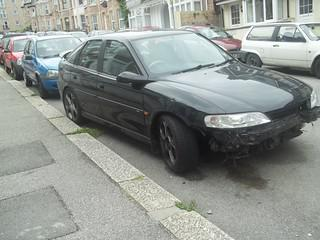front-bumper-dent: (205, 114, 319, 162)
